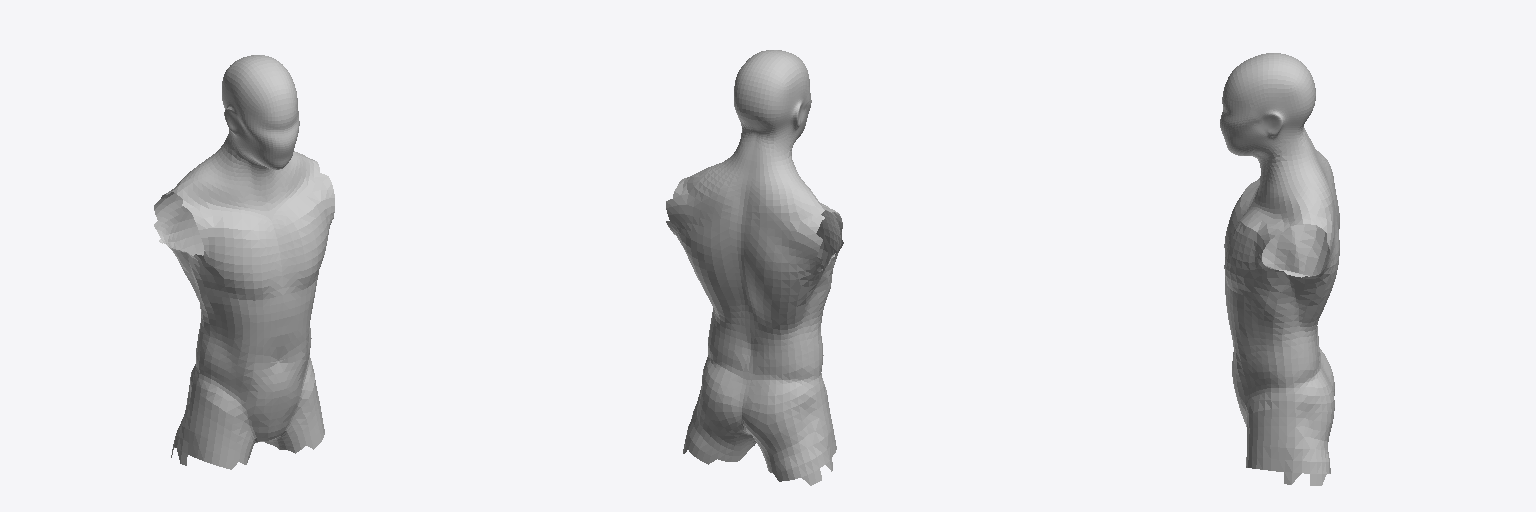
Rendered from humanbody.obj.
The picture shows the model from 3 angles: view 1: azimuth 30°, elevation 25°; view 2: azimuth 150°, elevation 25°; view 3: azimuth 270°, elevation 25°; orthographic projection.
Visible parts, largest first — view 1: lowman_shoes; view 2: lowman_shoes; view 3: lowman_shoes.
Boxes of the visible parts, x1=… form: lowman_shoes: x1=154, y1=55, x2=334, y2=469; lowman_shoes: x1=666, y1=50, x2=843, y2=485; lowman_shoes: x1=1220, y1=53, x2=1339, y2=485.
Bounding box in the file's own units: 1.37 × 3.32 × 0.9038.